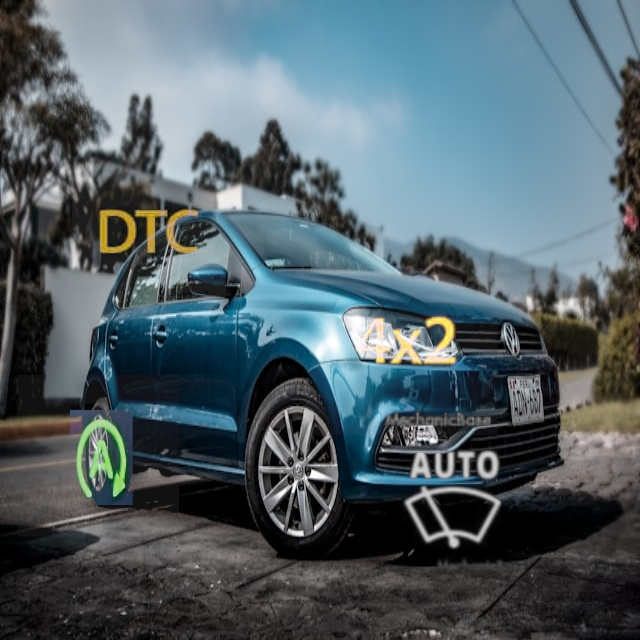symbol: (313, 250, 498, 435), (18, 375, 179, 536), (376, 423, 532, 579), (72, 156, 226, 310)
